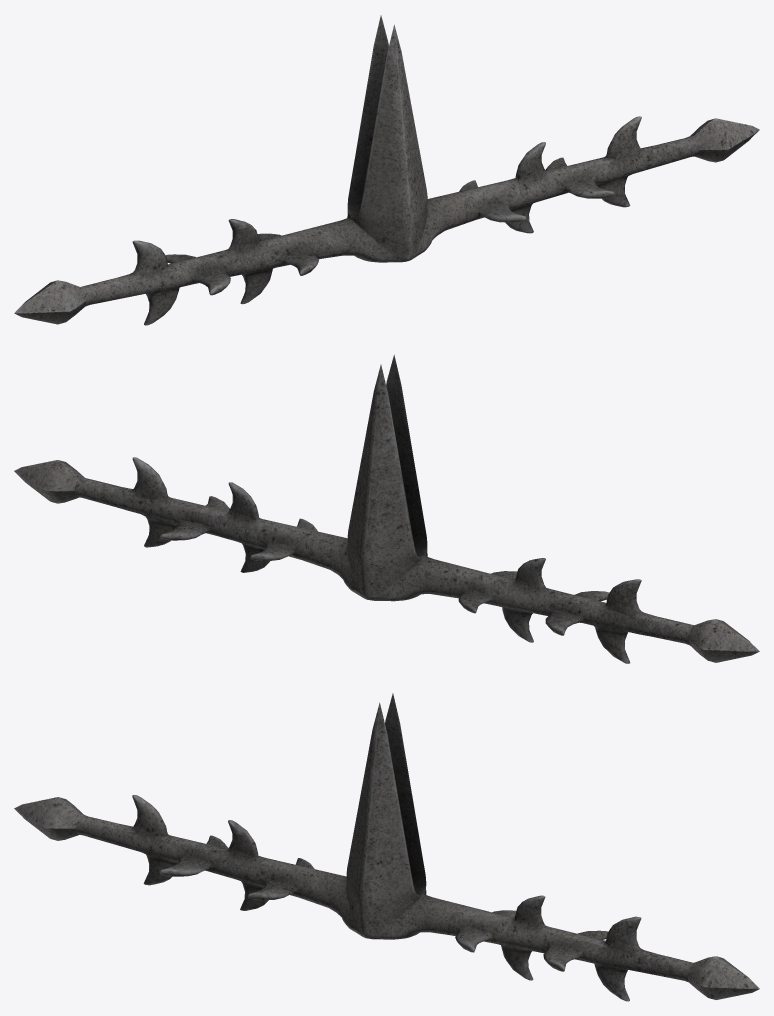
The model's file is wm_nazgul_sword_guard.fbx.
The picture shows the model from 3 angles, top to bottom: view 1: azimuth 30°, elevation 25°; view 2: azimuth 150°, elevation 25°; view 3: azimuth 330°, elevation 25°; orthographic projection.
Visible parts, largest first — view 1: wm_nazgul_sword_guard; view 2: wm_nazgul_sword_guard; view 3: wm_nazgul_sword_guard.
Boxes of the visible parts, bbox=[...] form: wm_nazgul_sword_guard: bbox=[14, 15, 759, 325]; wm_nazgul_sword_guard: bbox=[14, 354, 759, 663]; wm_nazgul_sword_guard: bbox=[14, 693, 759, 1001].
Bounding box in the file's own units: 0.3566 × 0.0435 × 0.1137.
1 material, 1 textured.
